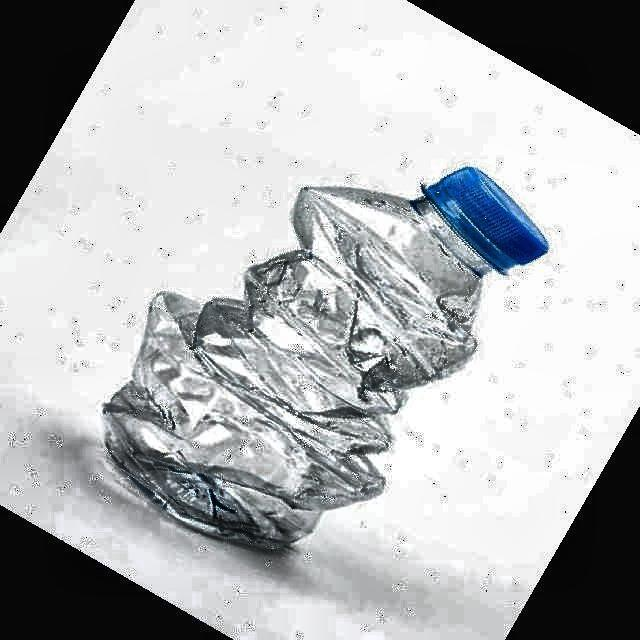plastic: (104, 170, 548, 548)
